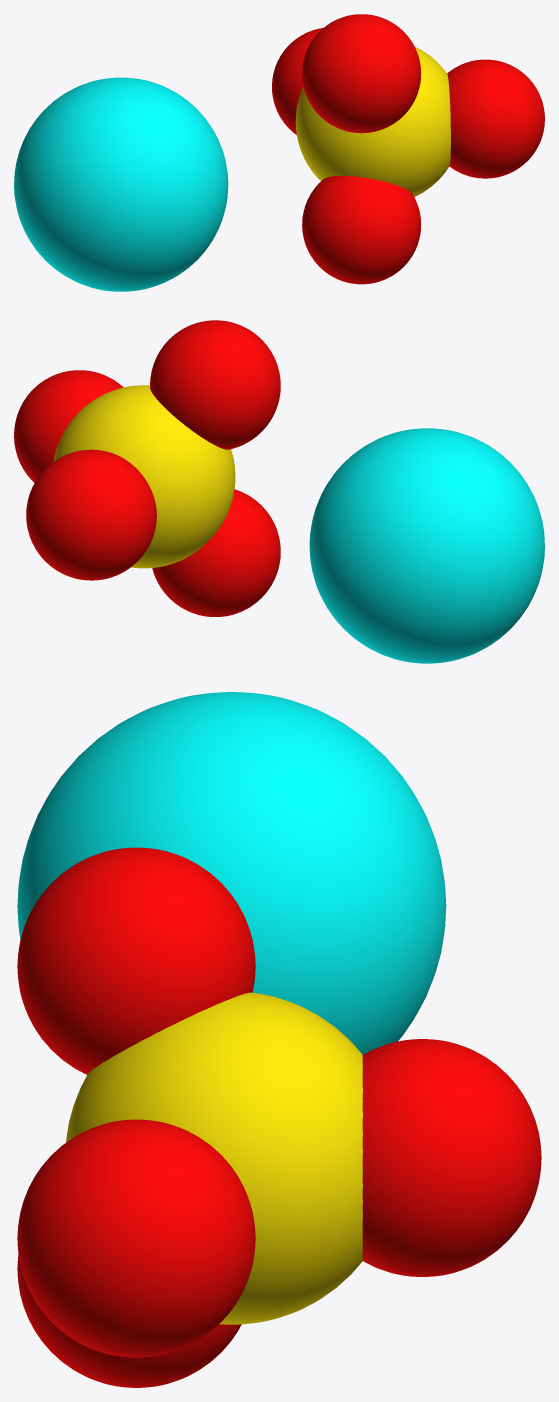
The model's file is CaSO4.glb.
3 renders of one model, top to bottom at view 1: azimuth 30°, elevation 25°; view 2: azimuth 150°, elevation 25°; view 3: azimuth 270°, elevation 25°, orthographic. The views are drawn at different scales.
Visible parts, largest first — view 1: Ca, O3, S, O4, O2, O1; view 2: Ca, S, O1, O3, O4, O2; view 3: Ca, S, O2, O3, O1, O4.
Part boxes in pixels (x1,y1,x2,y2): Ca: (14, 77, 228, 291); O3: (302, 14, 421, 133); S: (295, 46, 450, 196); O4: (302, 176, 421, 284); O2: (447, 59, 544, 178); O1: (272, 28, 322, 134); Ca: (309, 428, 544, 663); S: (53, 385, 235, 568); O1: (26, 449, 156, 580); O3: (150, 320, 280, 449); O4: (152, 489, 280, 616); O2: (14, 370, 123, 482); Ca: (17, 692, 446, 1054); S: (66, 992, 362, 1324); O2: (17, 1119, 255, 1357); O3: (17, 847, 255, 1074); O1: (362, 1039, 541, 1276); O4: (17, 1254, 241, 1387).
Bounding box in the file's own units: 4.7 × 2.4 × 2.2.
